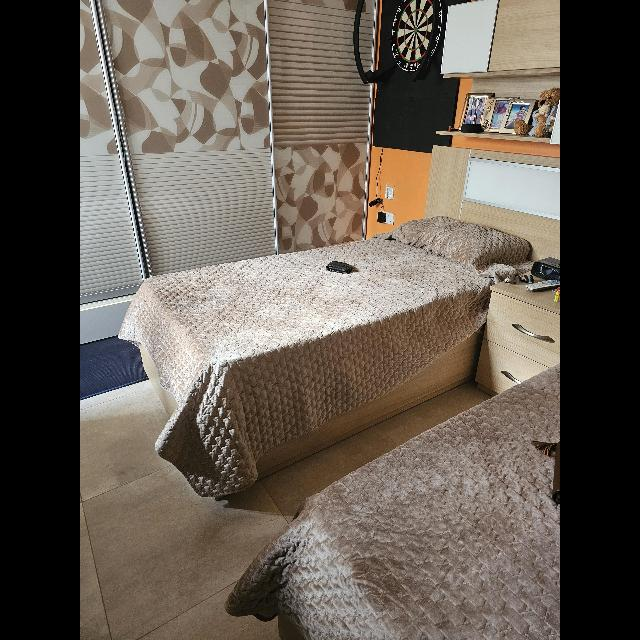Sunglasses: (504, 274, 534, 284)
Wallet: (326, 260, 354, 274)
